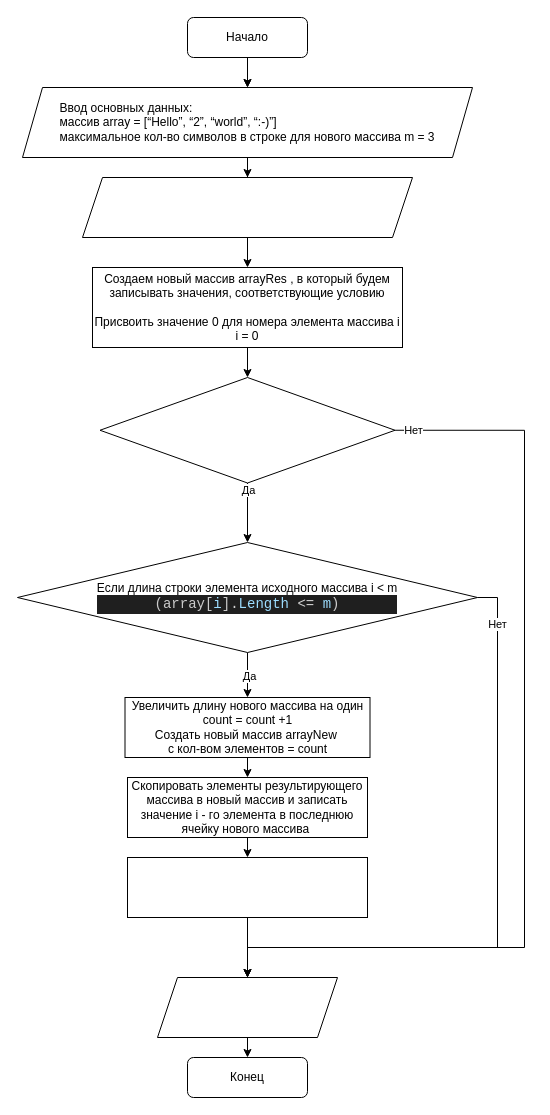
Some shapes in this 550 by 1115 pixel diagram are drawn without their labels. The shapes that lost their labels are listed below. From the top down, each one's box as (x1, y1, x2, y2) in pixels, then its label:
(82, 176, 412, 238): Задаем переменную для длины нового массива count = 0
(99, 376, 395, 483): Пока i < длины исходного массива i < array . Length
(126, 856, 368, 918): Результирующему массиву присвоить значение нового массива
(156, 976, 338, 1038): Вернуть значени результирующего массива
